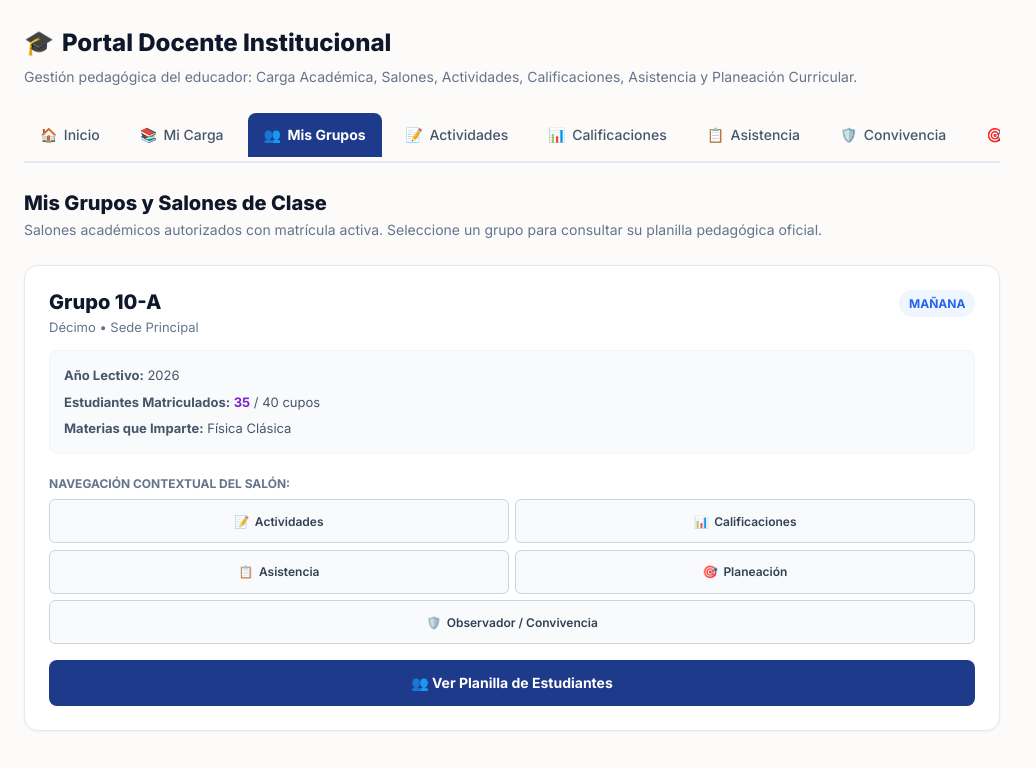
Test: TeacherPortal Component Tests › Phase B3: navigates contextually from Mis Grupos preserving group context in target tab
Check: the heading "Mis Grupos y Salones de Clase" is shown, box [24,191,327,215]
// Click contextual Activities button for group grp-1
Step 1. Click the button with test id "btn-context-activities-grp-1" → (279, 521), box [49,499,509,543]
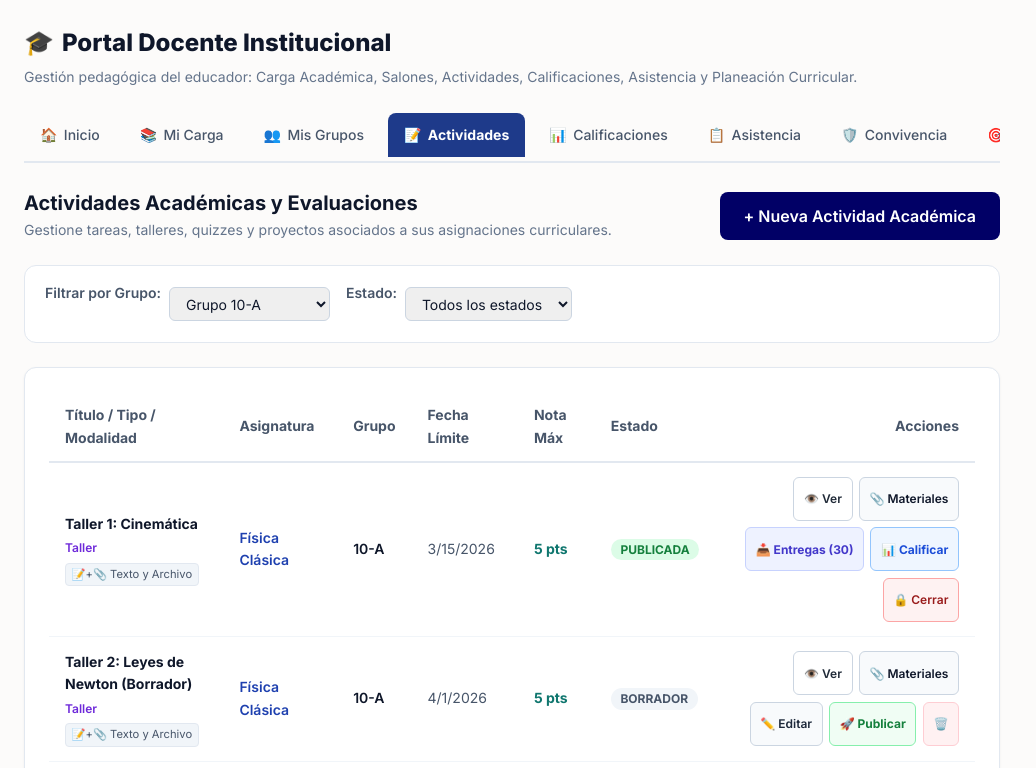
Check: the heading "Actividades Académicas y Evaluaciones" is shown, box [24,191,418,215]
